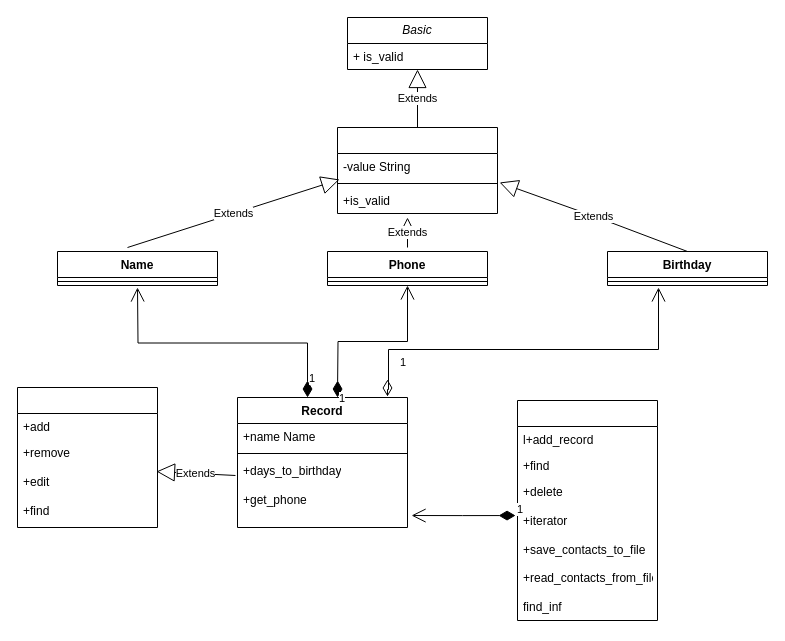
Some shapes in this 785 by 641 pixel diagram are drawn without their labels. The box of each missing label's shape, as (x1, y1, x2, y2) in pixels:
AddressBook: (516, 400, 658, 620)
BasicRecord: (16, 386, 158, 528)
Field: (336, 126, 498, 214)
